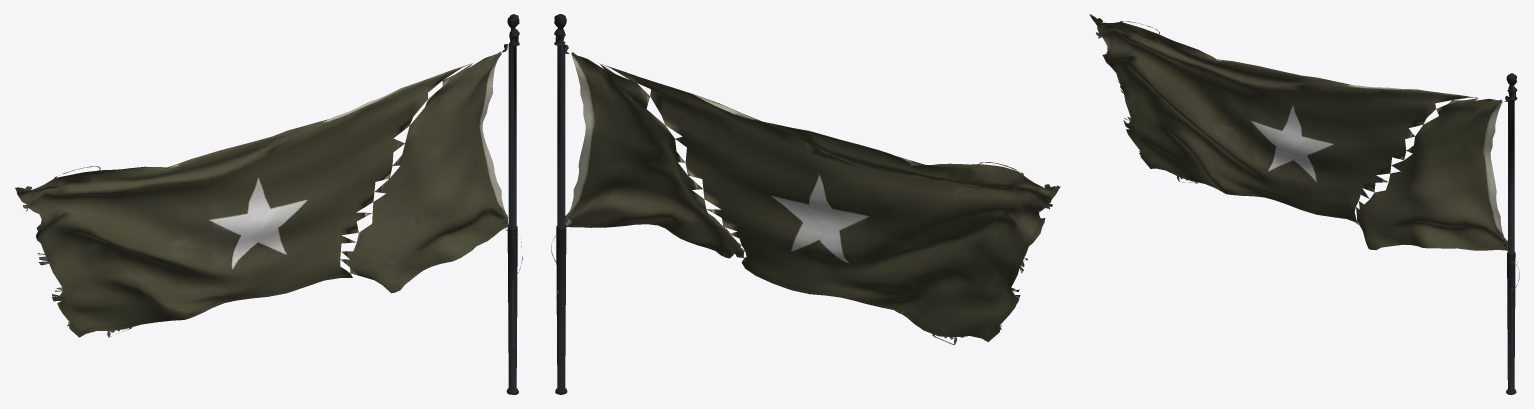
File: l_flag.glb
The picture shows the model from 3 angles, left to right: view 1: azimuth 30°, elevation 25°; view 2: azimuth 150°, elevation 25°; view 3: azimuth 330°, elevation 25°; orthographic projection. The views are drawn at different scales.
Bounding box in the file's own units: 0.9541 × 0.6772 × 0.0957.
Materials: 1 (1 with a texture image).
